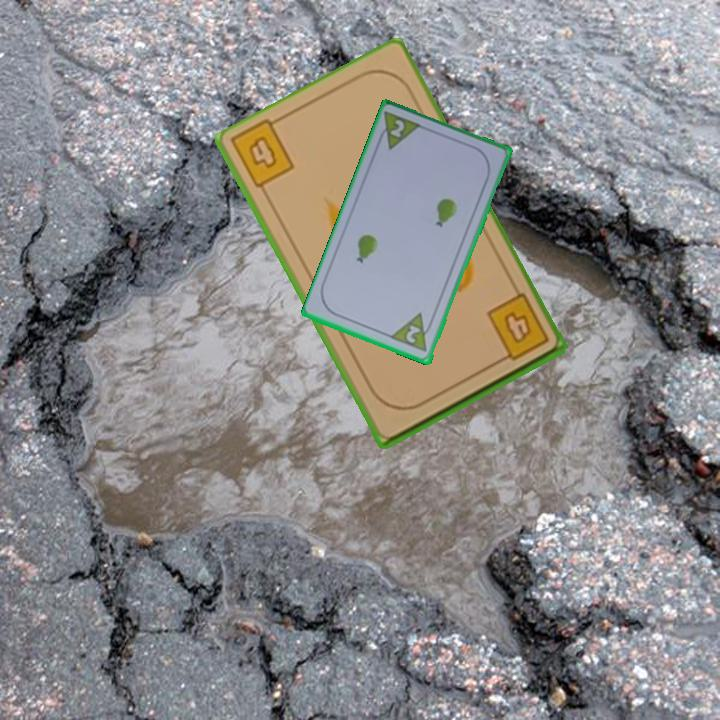2p: (373, 108, 425, 153), (388, 309, 437, 355)
4b: (483, 290, 552, 367), (243, 132, 280, 172)
